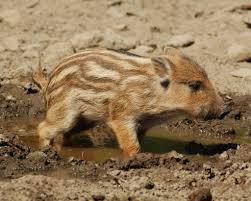wildboar: (23, 45, 231, 160)
